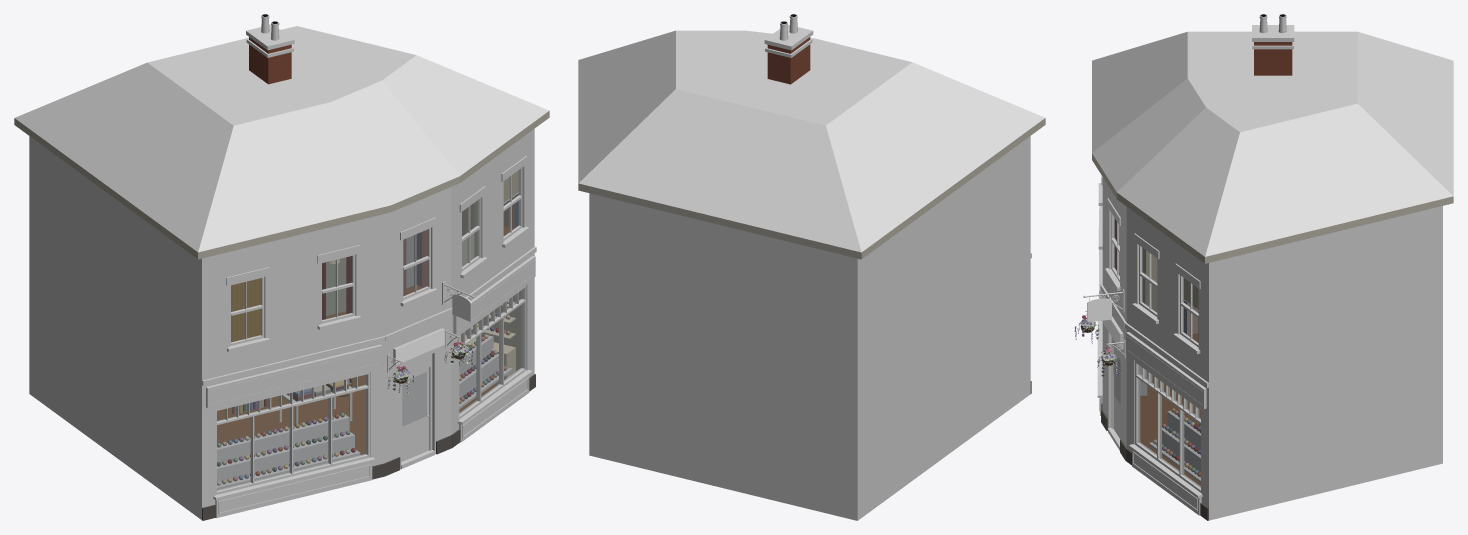
File: GateStreet_Corner.glb
3 views of the same model, side by side, from view 1: azimuth 30°, elevation 25°; view 2: azimuth 150°, elevation 25°; view 3: azimuth 270°, elevation 25° (orthographic).
Visible parts, largest first — view 1: GateStreet_Corner; view 2: GateStreet_Corner; view 3: GateStreet_Corner.
Part boxes in pixels (x1,y1,x2,y2): GateStreet_Corner: (14,14,549,520); GateStreet_Corner: (578,14,1045,520); GateStreet_Corner: (1074,14,1453,520).
Bounding box in the file's own units: 10.92 × 10.21 × 8.91.
